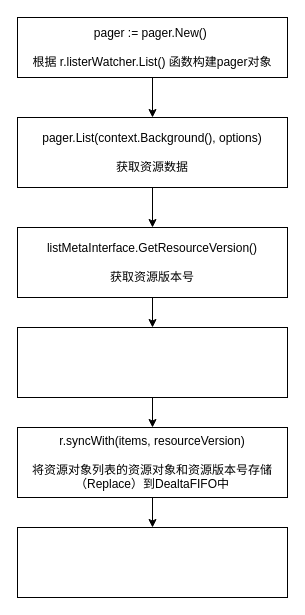
Some shapes in this 305 by 615 pixel diagram are drawn without their labels. The centre of each missing label's shape, as x and y in pixels:
meta.ExtractList(list) 将数据资源转换成资源对象列表: (152,362)
r.setLastSyncResourceVersion(resourceVersion) 设置最新的资源版本号: (152,562)
